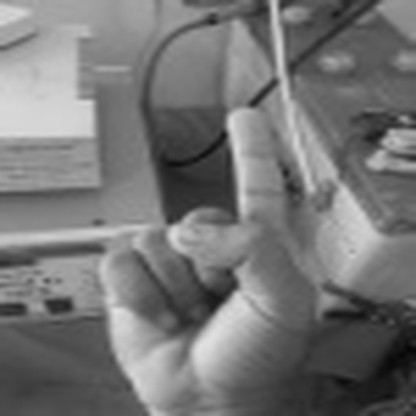d: (97, 105, 311, 415)
